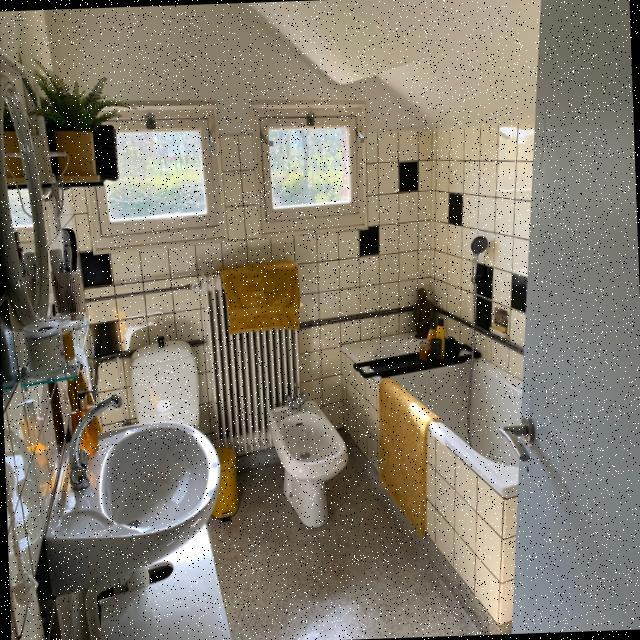bath: (337, 322, 530, 559)
toilet: (263, 382, 350, 530), (128, 332, 202, 428)
wastafel: (36, 388, 225, 600)
